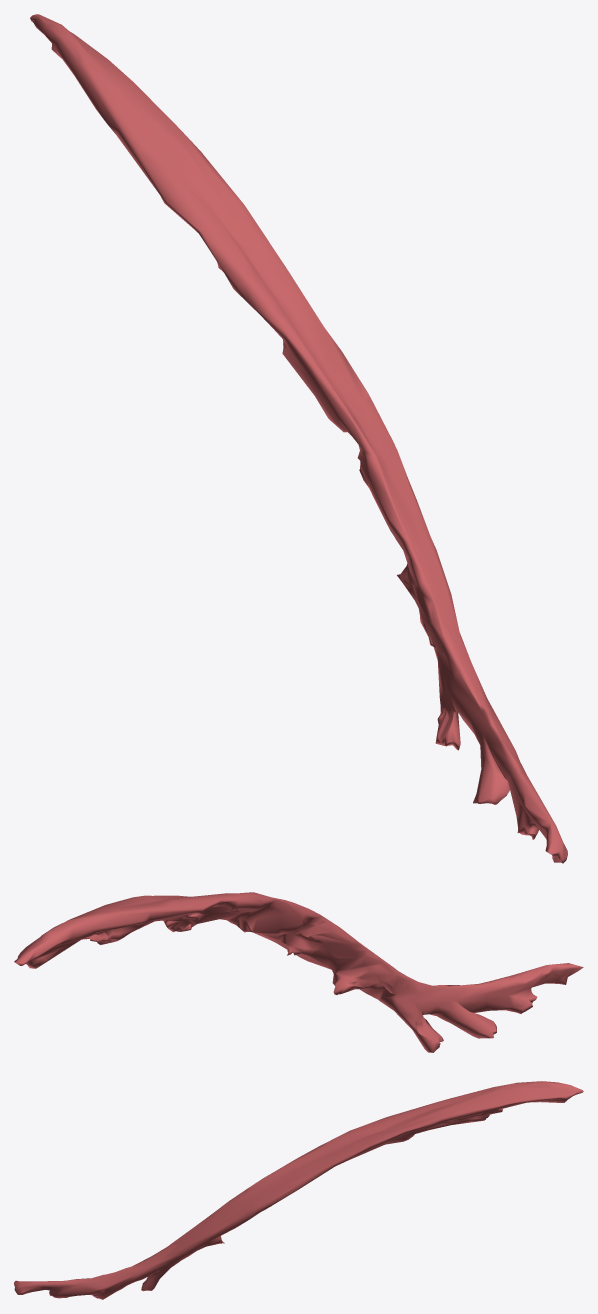
The picture shows the model from 3 angles, top to bottom: view 1: azimuth 30°, elevation 25°; view 2: azimuth 150°, elevation 25°; view 3: azimuth 270°, elevation 25°; orthographic projection. The views are drawn at different scales.
Parts seen in each view (by area): view 1: 左侧颈最长肌; view 2: 左侧颈最长肌; view 3: 左侧颈最长肌.
Boxes of the visible parts, x1=… form: 左侧颈最长肌: x1=30, y1=14, x2=567, y2=863; 左侧颈最长肌: x1=14, y1=892, x2=583, y2=1052; 左侧颈最长肌: x1=14, y1=1081, x2=583, y2=1299.
Size of the model in its own units: 0.0282 by 0.1197 by 0.2791.
